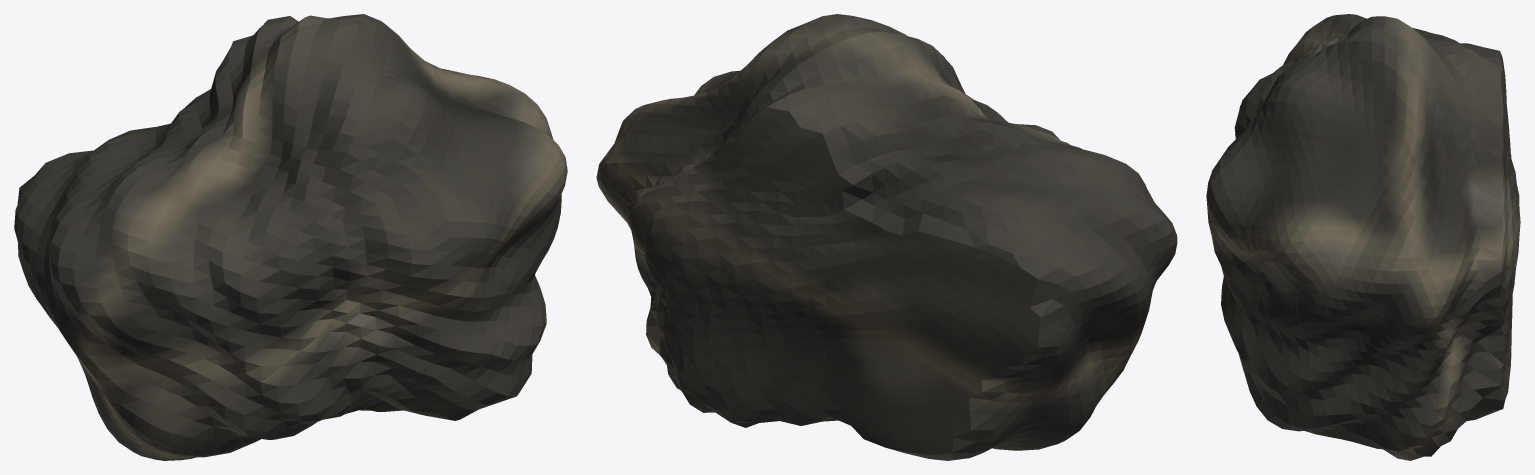
File: realistic_mineral_rock_360.glb
3 renders of one model, left to right at view 1: azimuth 30°, elevation 25°; view 2: azimuth 150°, elevation 25°; view 3: azimuth 270°, elevation 25°, orthographic. The views are drawn at different scales.
Visible parts, largest first — view 1: world; view 2: world; view 3: world.
Part boxes in pixels (left/top/right/bottom): world: left=14, top=14, right=567, bottom=460; world: left=596, top=14, right=1177, bottom=460; world: left=1206, top=14, right=1520, bottom=460.
Size of the model in its own units: 2.84 by 2.07 by 1.58.
